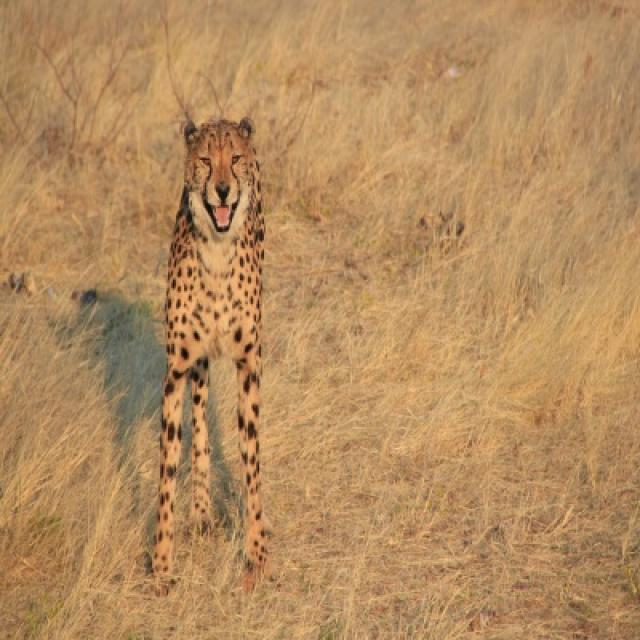Cheetah: (149, 120, 270, 594)
